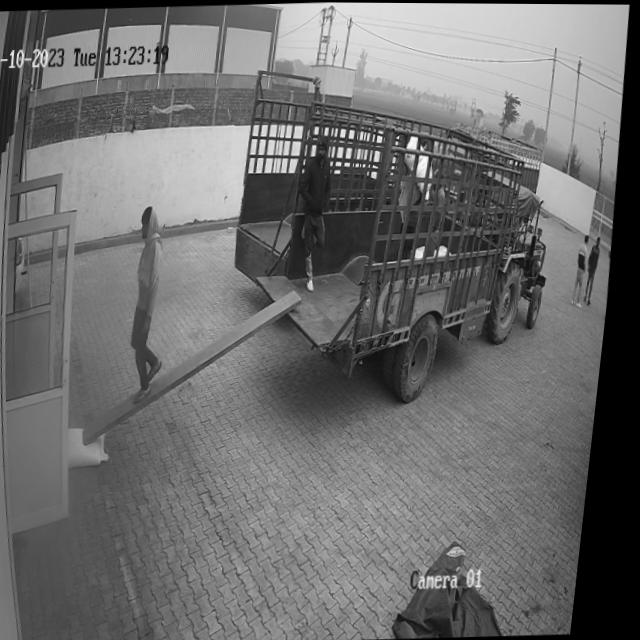sack: (74, 426, 121, 468)
